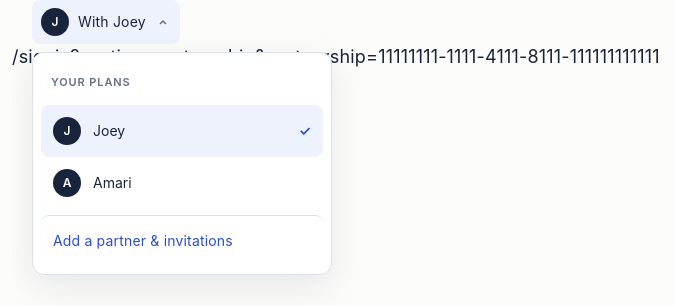
Test: switching in Account keeps the settings section and clears an old partnership URL
Click the button "A Amari" at (112, 183), box [41,157,323,209]
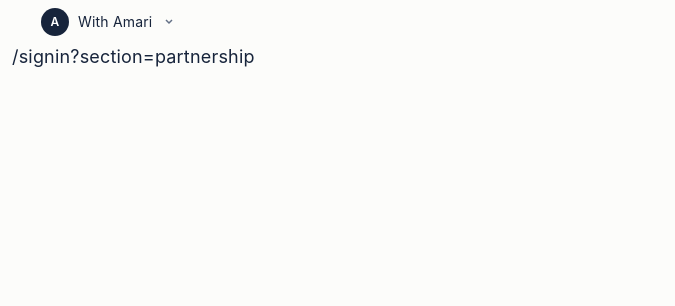
Expected: the text "/signin?section=partnership" is shown, [12,46,255,67]
Expected: the text "With Amari" is shown, [78,9,152,35]
